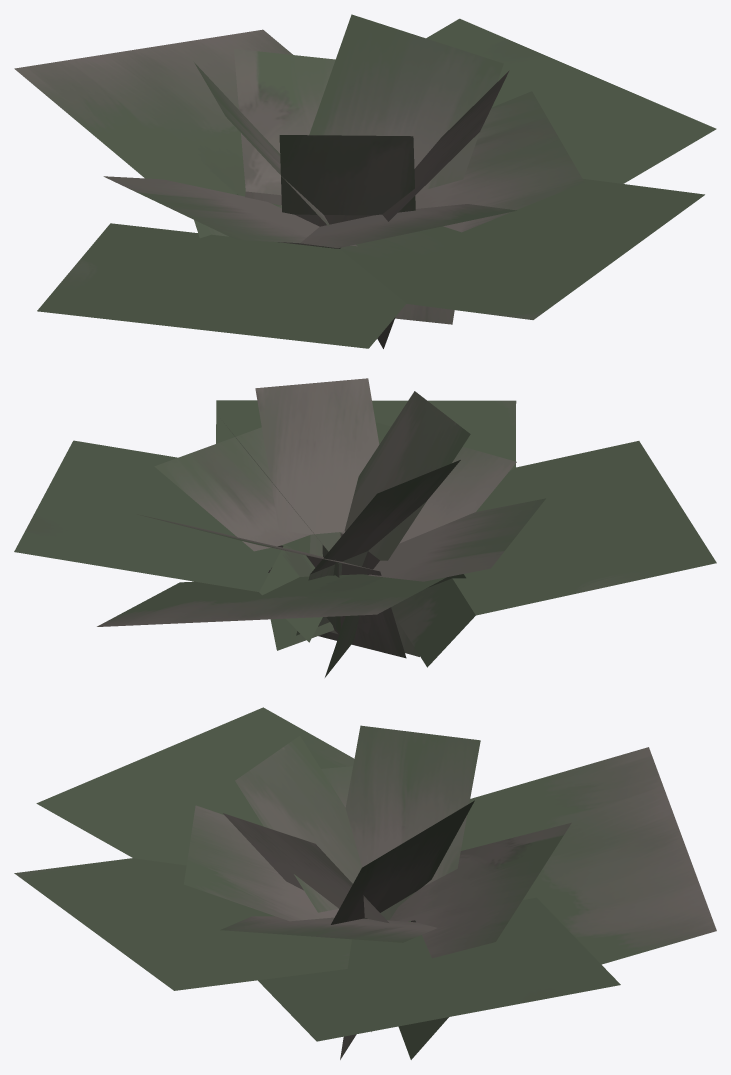
File: planta_rasteira.fbx
3 views of the same model, one above another, from view 1: azimuth 30°, elevation 25°; view 2: azimuth 150°, elevation 25°; view 3: azimuth 270°, elevation 25° (orthographic). The views are drawn at different scales.
Parts seen in each view (by area): view 1: Plane.008; view 2: Plane.008; view 3: Plane.008.
Boxes of the visible parts, box(x1,y1,x2,y2) form: Plane.008: box(14, 14, 716, 348); Plane.008: box(14, 378, 716, 677); Plane.008: box(14, 707, 716, 1059).
Size of the model in its own units: 476 by 170 by 437.
1 material, 1 textured.
